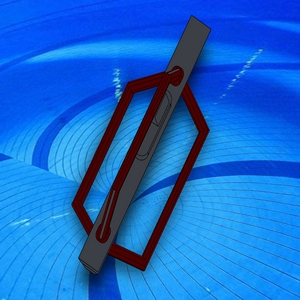submarine: (69, 12, 228, 284)
